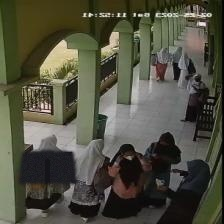Cadar_Niqab: (19, 134, 77, 183)
